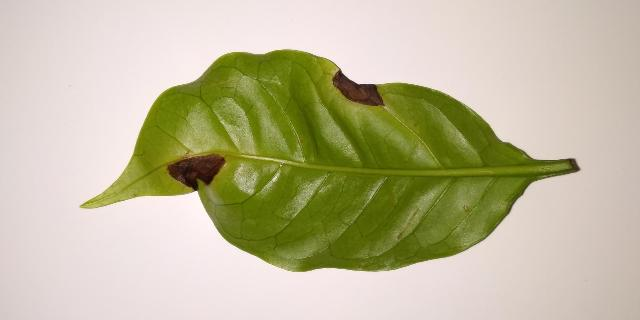rust: (168, 154, 225, 191), (332, 69, 384, 106)
